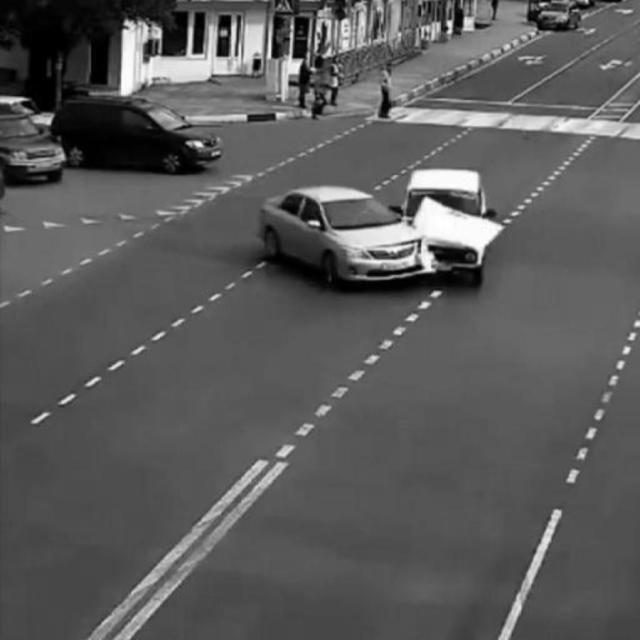accident: (263, 166, 495, 292), (46, 92, 224, 174), (0, 104, 64, 187)
person: (376, 60, 393, 118)
